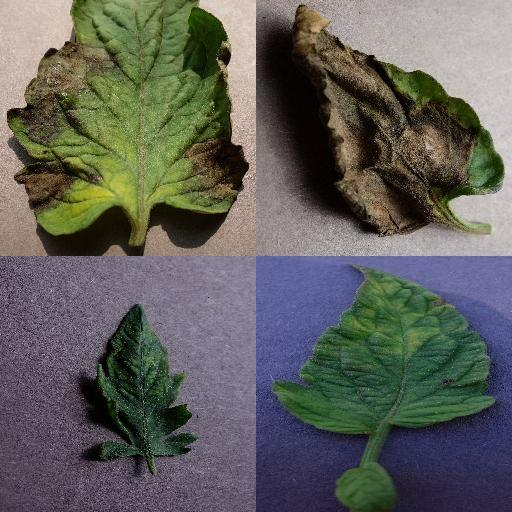Late Blight: (6, 0, 251, 238), (290, 1, 504, 235)
Leaf Mold: (270, 266, 498, 436)
Mosaic Virus: (92, 301, 198, 465)
